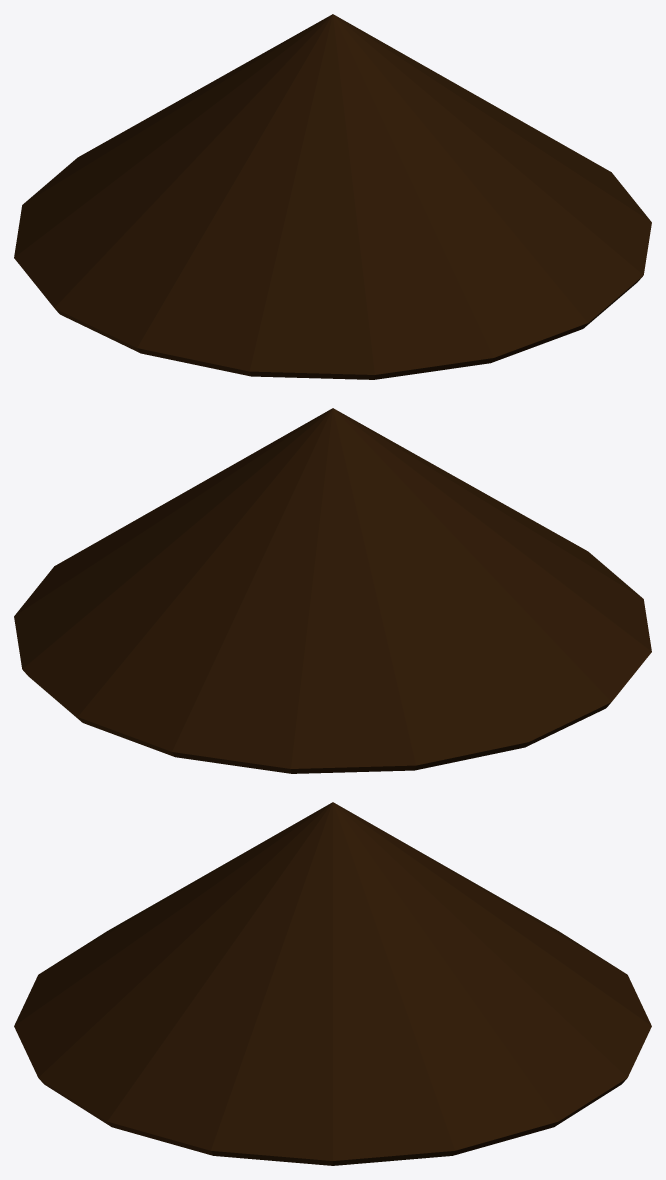
The model's file is ConeHat_(Outlined)_v002.fbx.
3 views of the same model, one above another, from view 1: azimuth 30°, elevation 25°; view 2: azimuth 150°, elevation 25°; view 3: azimuth 270°, elevation 25° (orthographic).
Parts seen in each view (by area): view 1: coneHat; view 2: coneHat; view 3: coneHat.
Boxes of the visible parts, left/top/right/bottom form: coneHat: left=14, top=14, right=651, bottom=379; coneHat: left=14, top=408, right=651, bottom=773; coneHat: left=14, top=802, right=651, bottom=1165.
Size of the model in its own units: 292 by 117 by 292.
